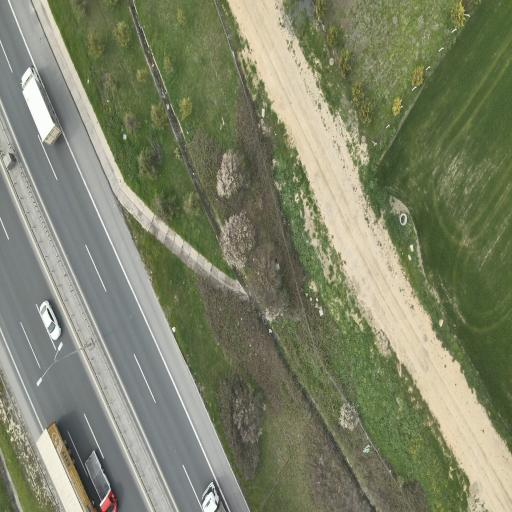car: (37, 422, 97, 511), (21, 67, 62, 144), (85, 451, 117, 511), (39, 301, 61, 340), (202, 482, 225, 511)
